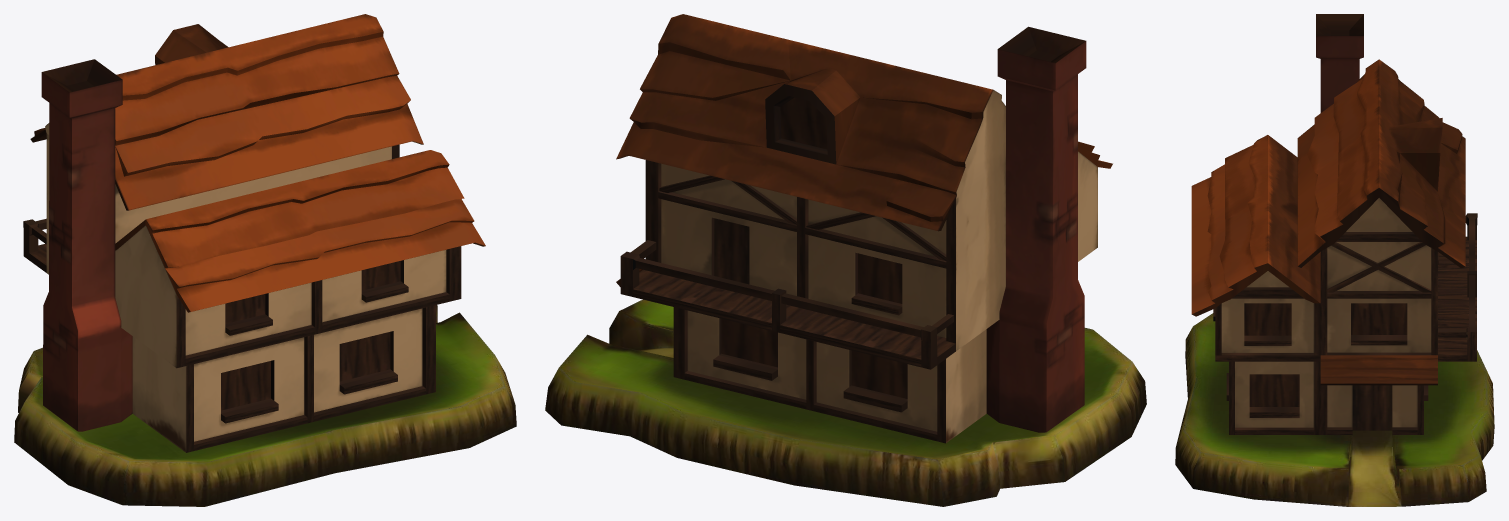
Rendered from newTest.fbx.
3 renders of one model, left to right at view 1: azimuth 30°, elevation 25°; view 2: azimuth 150°, elevation 25°; view 3: azimuth 270°, elevation 25°, orthographic. The views are drawn at different scales.
Parts seen in each view (by area): view 1: Plane; view 2: Plane; view 3: Plane.
Part boxes in pixels (box(x1,y1,x2,y2)): Plane: box(14, 14, 516, 506); Plane: box(545, 14, 1146, 506); Plane: box(1175, 14, 1494, 506).
Bounding box in the file's own units: 1711 × 1385 × 1258.
